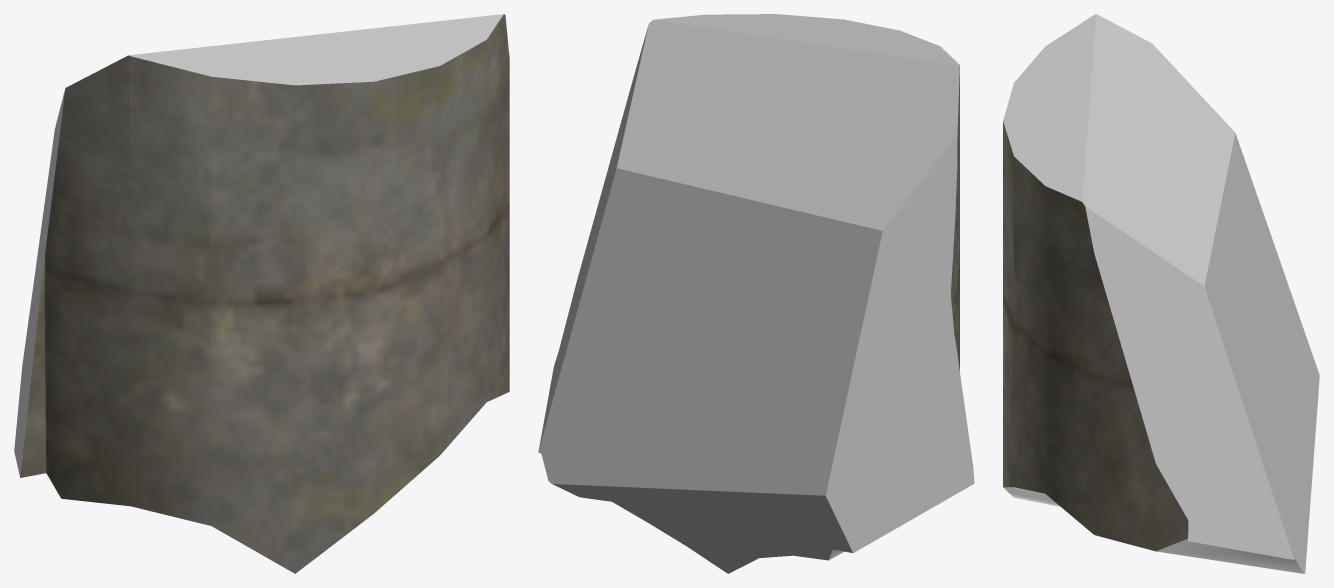
The model's file is ColumnDamage08_9.fbx.
3 views of the same model, side by side, from view 1: azimuth 30°, elevation 25°; view 2: azimuth 150°, elevation 25°; view 3: azimuth 270°, elevation 25° (orthographic). The views are drawn at different scales.
Visible parts, largest first — view 1: ColumnDamage08_DM.009; view 2: ColumnDamage08_DM.009; view 3: ColumnDamage08_DM.009.
Part boxes in pixels (left/top/right/bottom): ColumnDamage08_DM.009: left=14, top=14, right=509, bottom=573; ColumnDamage08_DM.009: left=538, top=14, right=974, bottom=573; ColumnDamage08_DM.009: left=1003, top=14, right=1319, bottom=573.
Bounding box in the file's own units: 132 × 144 × 88.01.
